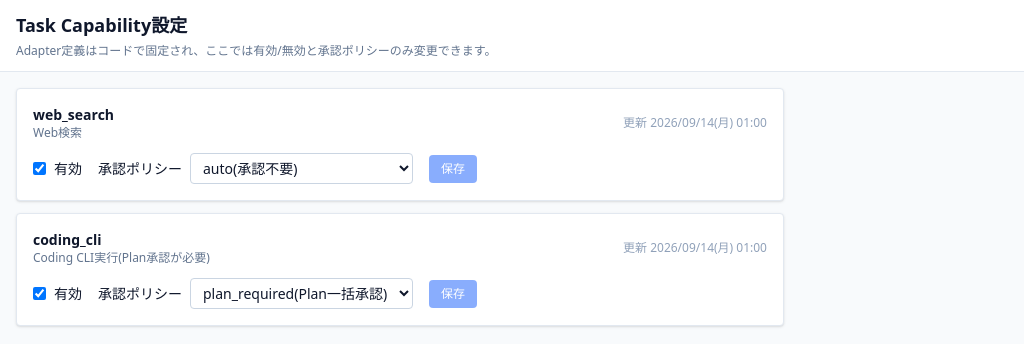
Test case: CapabilitySettingsPage › shows an error when save fails
Click the checkbox named "web_searchの有効化". click: (40, 168)
box: [33,162,46,175]
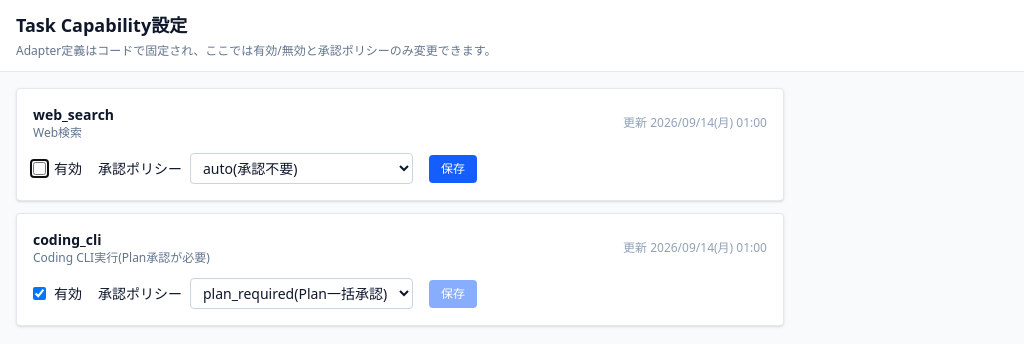
Click the 1st button "保存". click: (453, 168)
box: [429,154,477,182]
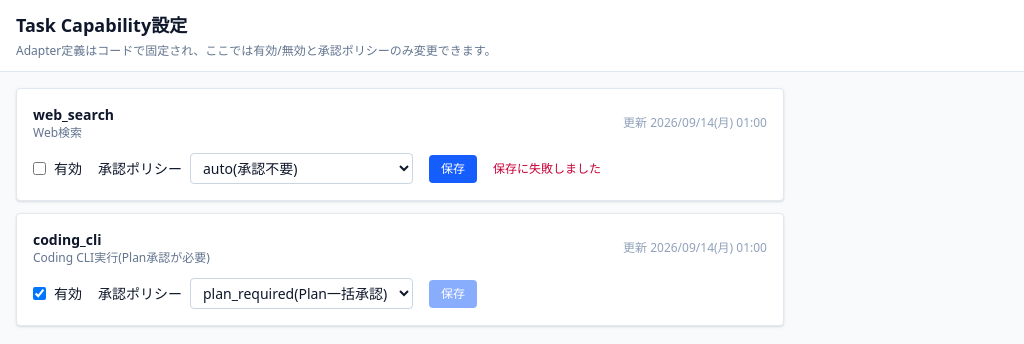
Result: the text "保存に失敗しました" is shown at [493,160,601,176]
